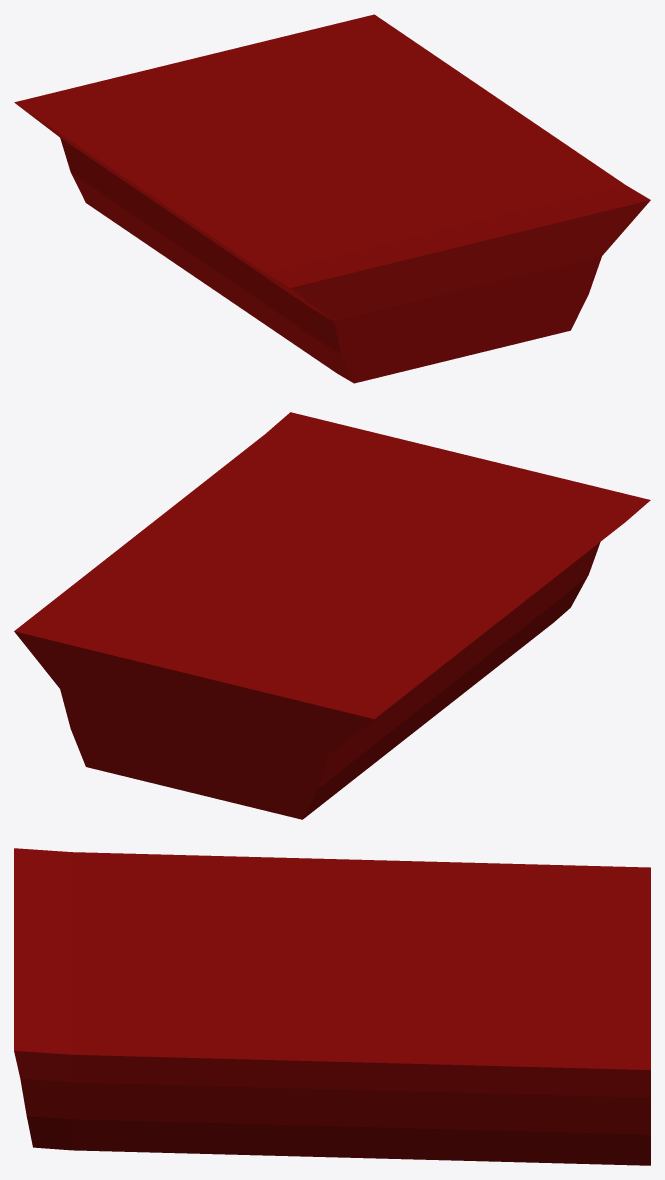
File: Rojo4.fbx
3 renders of one model, top to bottom at view 1: azimuth 30°, elevation 25°; view 2: azimuth 150°, elevation 25°; view 3: azimuth 270°, elevation 25°, orthographic. The views are drawn at different scales.
Visible parts, largest first — view 1: 9_Rojo; view 2: 9_Rojo; view 3: 9_Rojo.
Part boxes in pixels (x1,y1,x2,y2): 9_Rojo: (14, 14, 650, 383); 9_Rojo: (14, 412, 650, 819); 9_Rojo: (14, 848, 650, 1165).
Bounding box in the file's own units: 2.1 × 0.7515 × 2.79.
